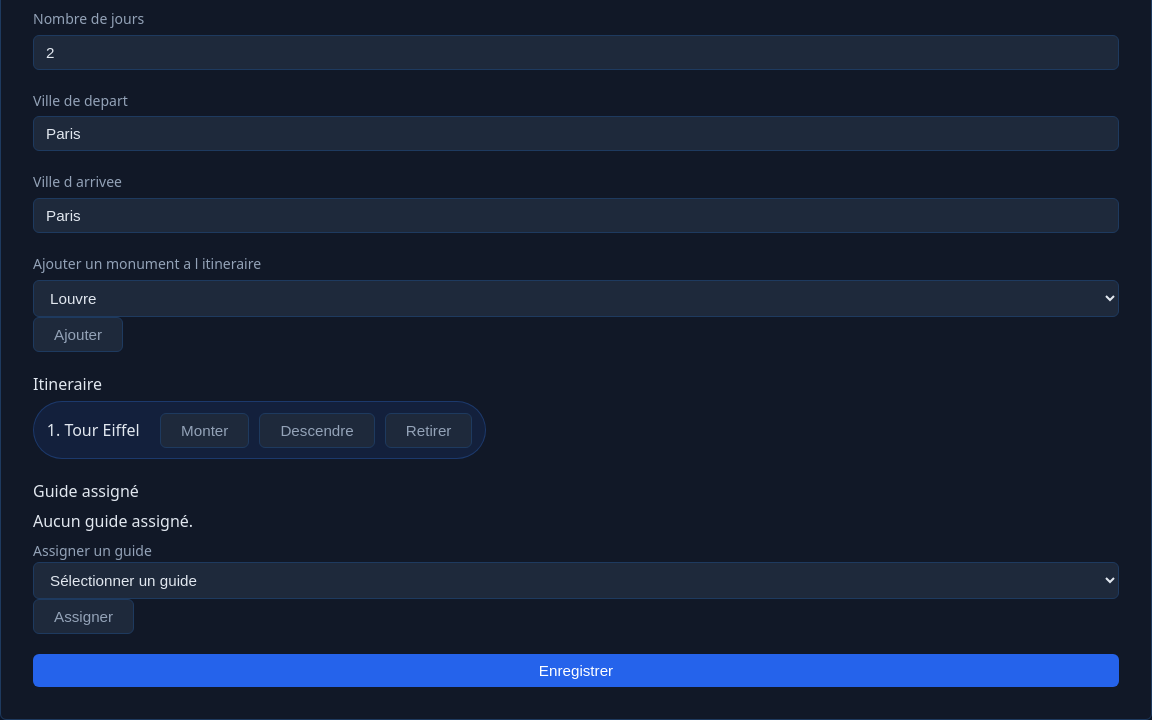
Test case: ModifierCircuit › assigne un guide au circuit
(page scrolled)
Check: the text "1. Tour Eiffel" is shown, box [47,418,140,442]
Select "Lea Martin" in the dropdown labelled "Assigner un guide" at (576, 581), box [33,562,1119,599]
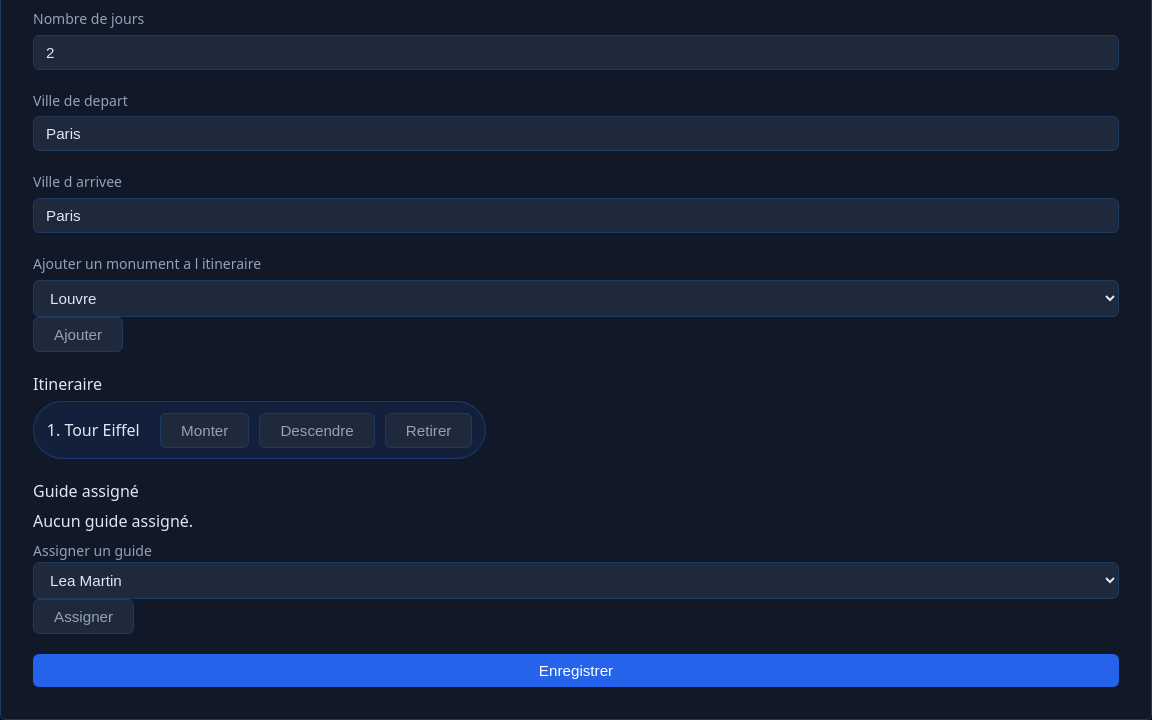
Click the button "Assigner" at (84, 617), box [33,599,134,634]
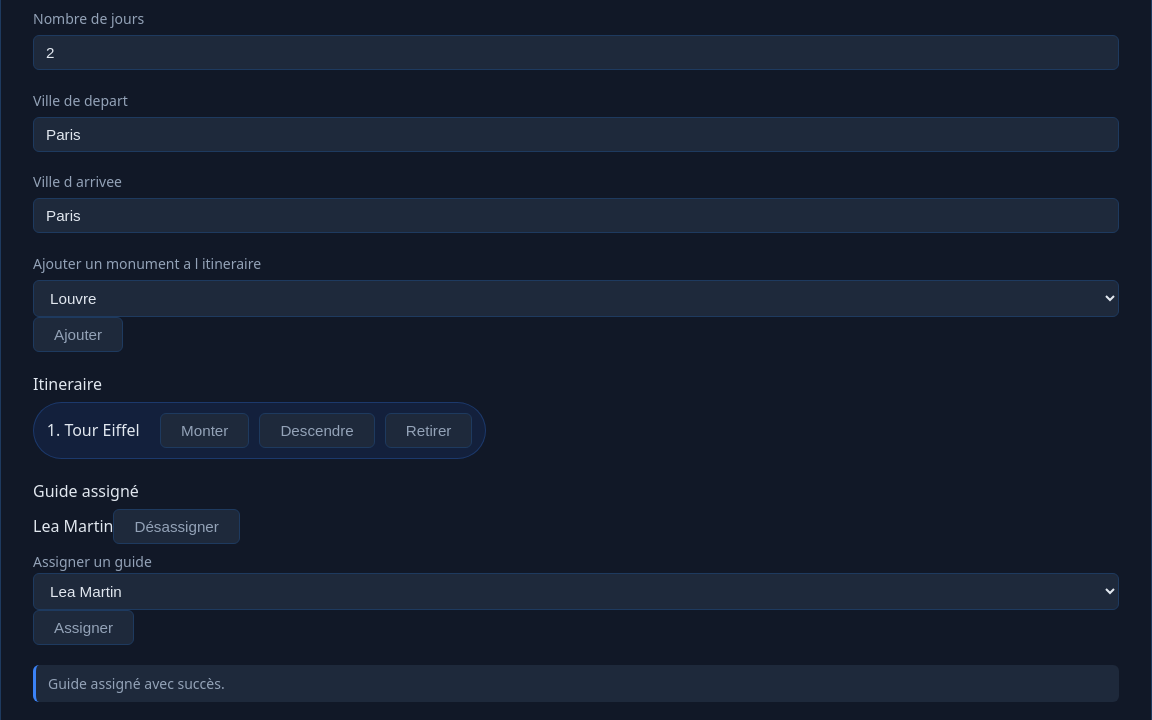
Check: the text "Guide assigné avec succès." is shown, box [33,665,1119,702]
Check: the button "Désassigner" is shown, box [114,508,240,544]
